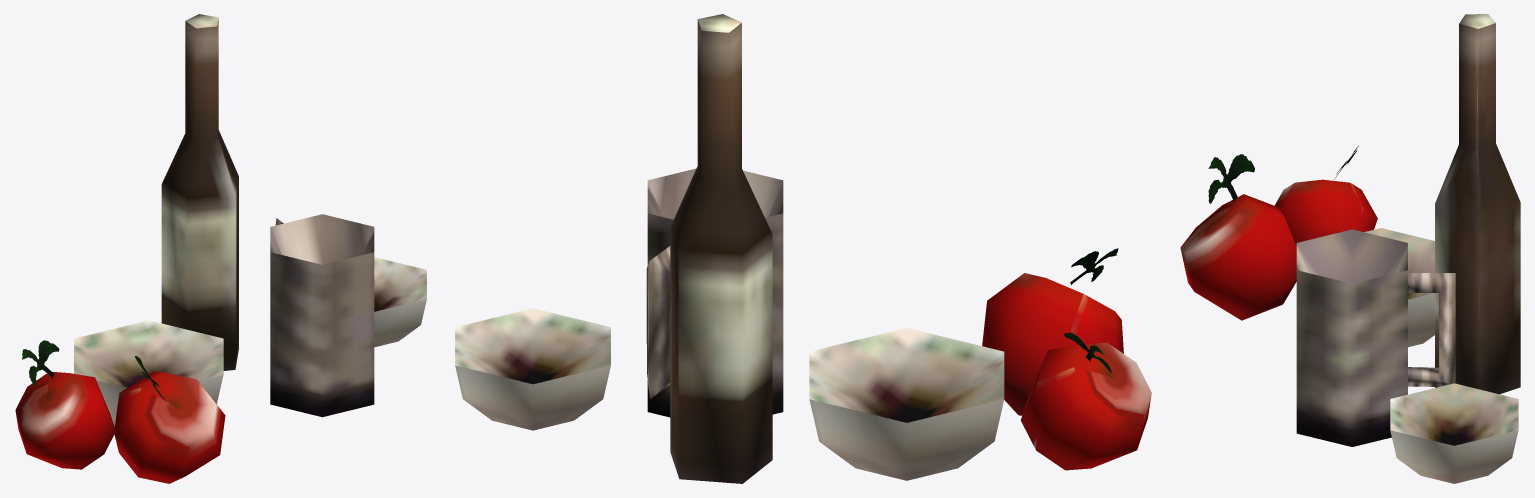
3 renders of one model, left to right at view 1: azimuth 30°, elevation 25°; view 2: azimuth 150°, elevation 25°; view 3: azimuth 270°, elevation 25°, orthographic. The views are drawn at different scales.
Visible parts, largest first — view 1: Beer02; view 2: Beer02; view 3: Beer02.
Boxes of the visible parts, box(x1,y1,x2,y2) form: Beer02: box(15, 14, 426, 483); Beer02: box(455, 14, 1151, 483); Beer02: box(1180, 14, 1520, 483).
Bounding box in the file's own units: 88.24 × 62.27 × 51.88.
